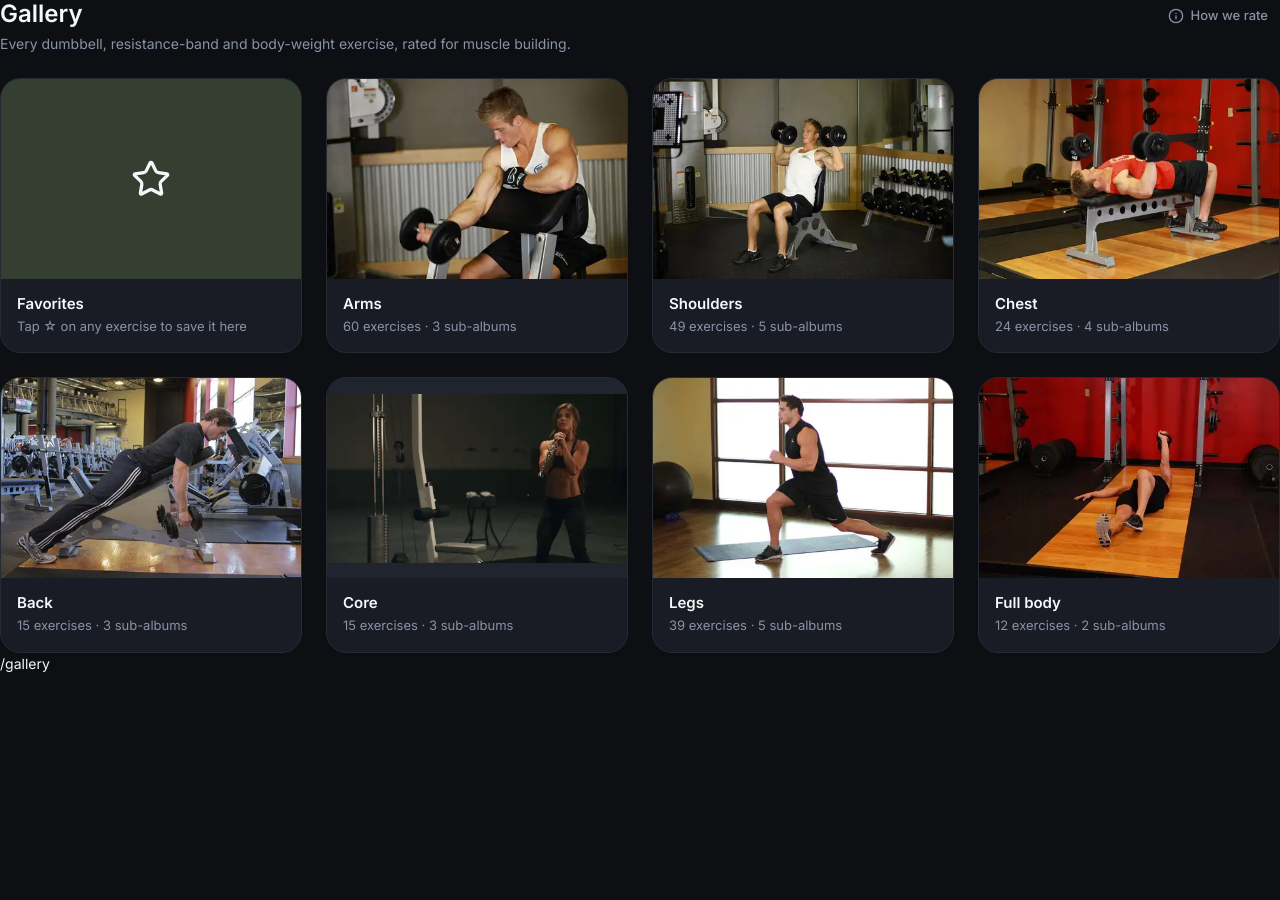
⌘K palette gallery entries › offers Open gallery, Favorites and one entry per album, and navigates
Type keys "{Control>}k{/Control}"
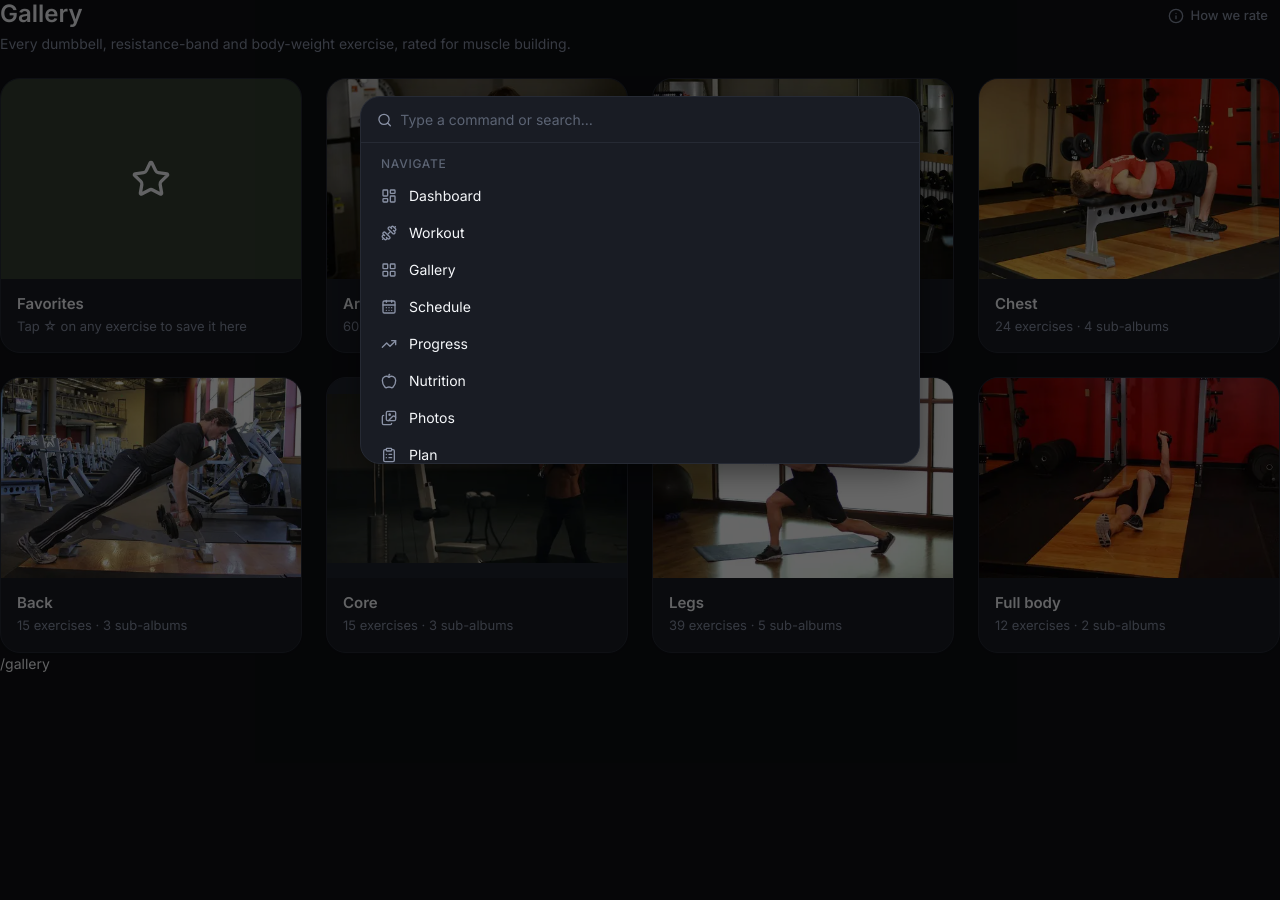
Filtering leaves only matching rows (no stale ones from the unfiltered list).
In the field: (652, 120) [400, 109, 903, 130], type "album"
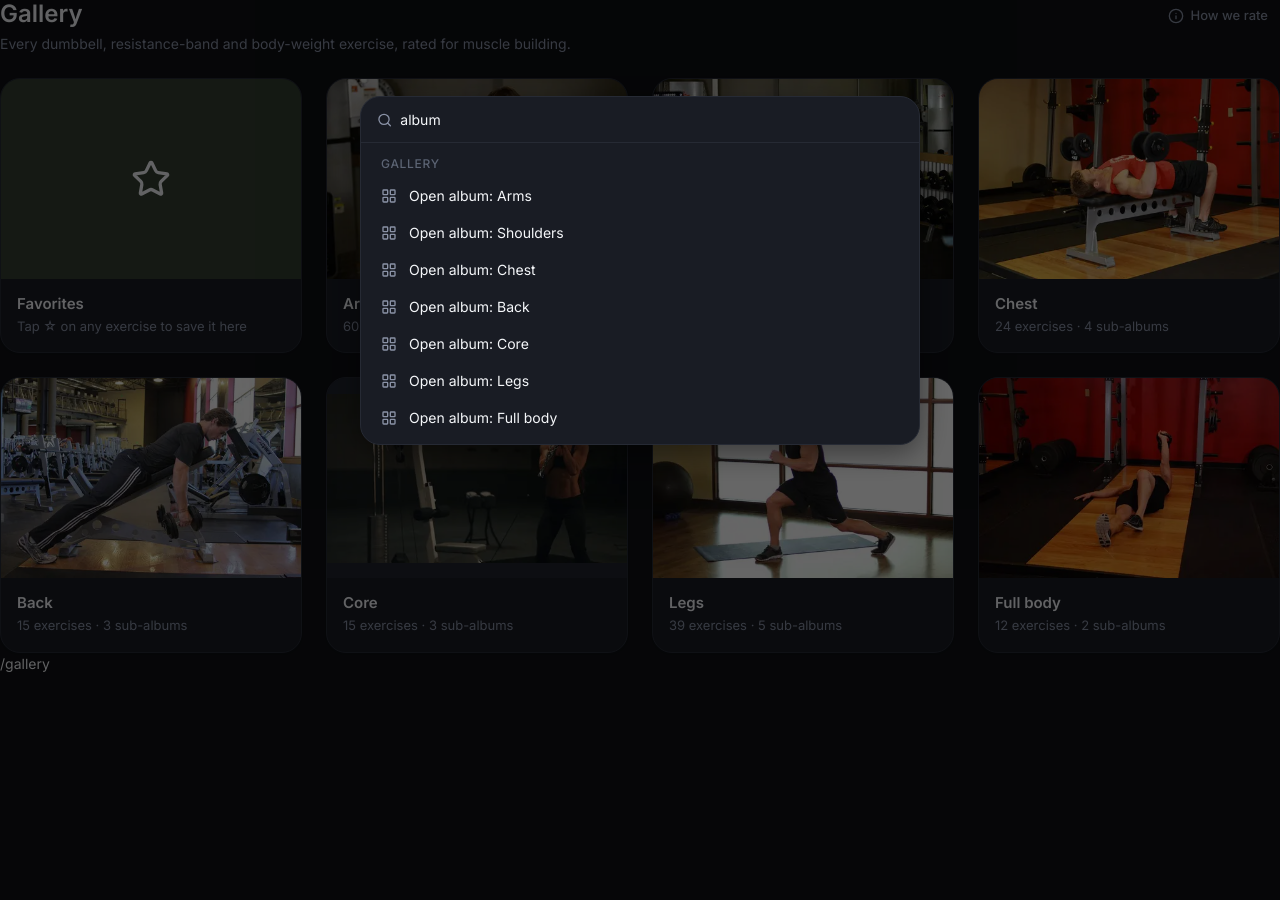
Expected: the number of options is 7
In the field: (652, 120) [400, 109, 903, 130], type ": leg"
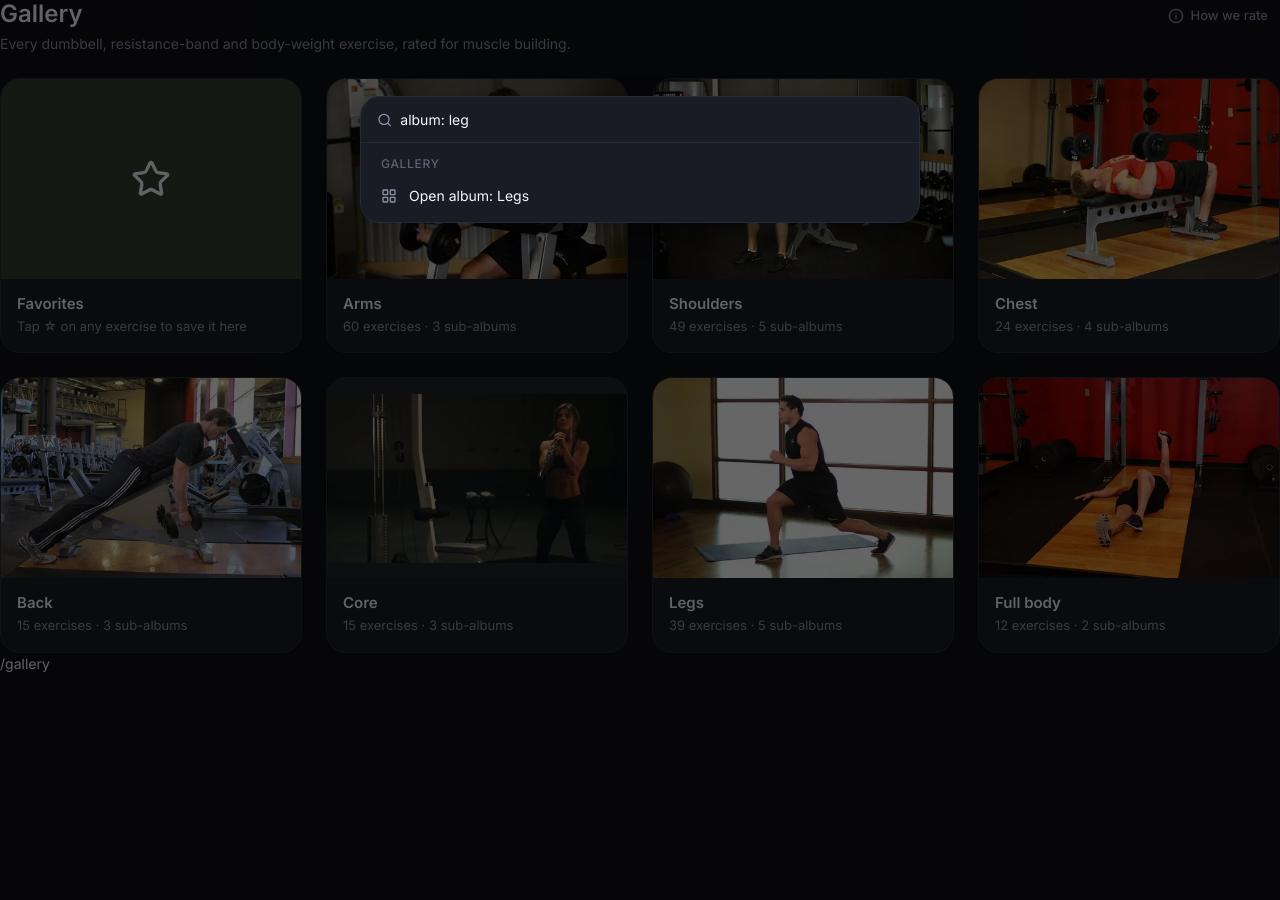
Expected: the number of options is 1
Click the button "Open album: Legs": (469, 196) [369, 177, 911, 214]
(page scrolled)
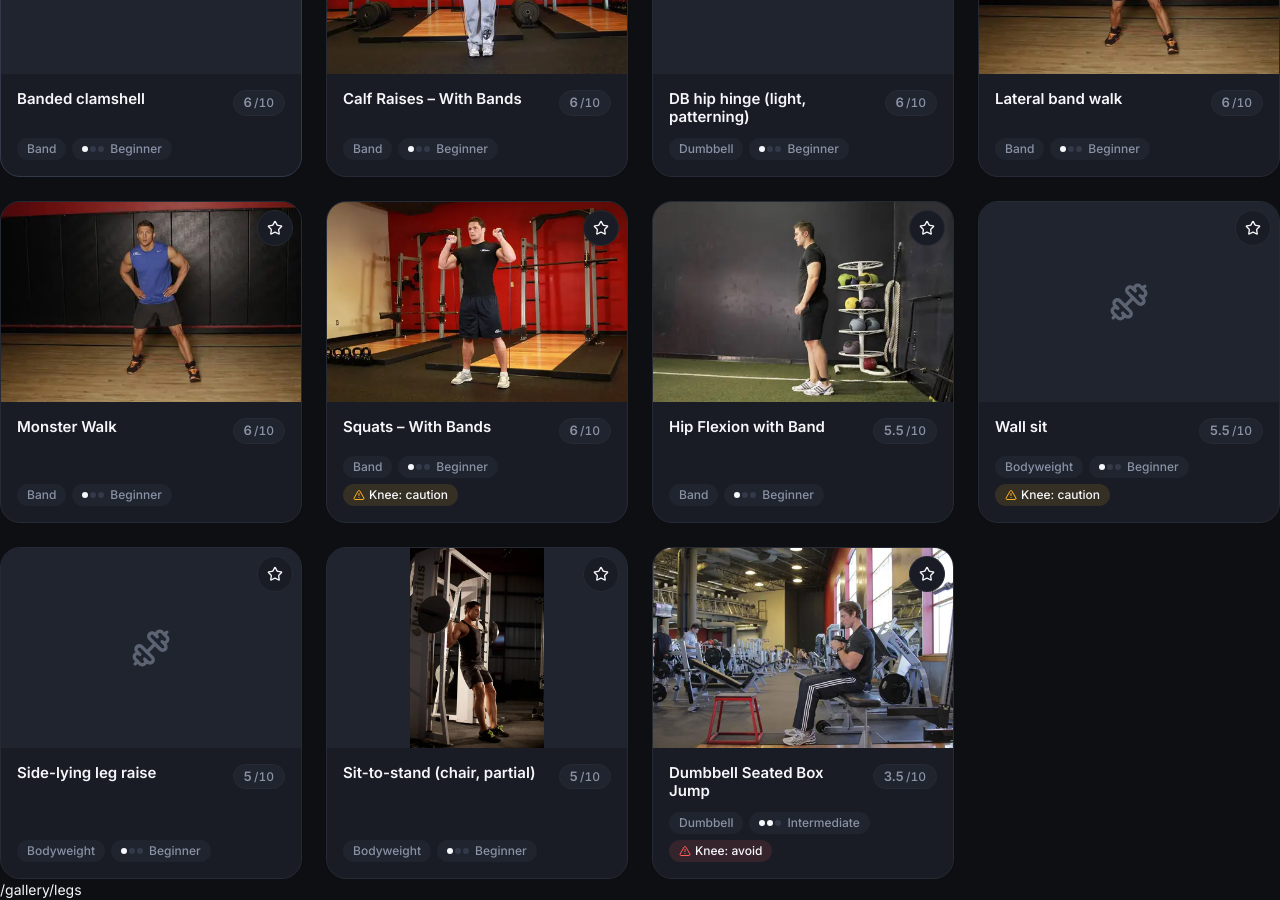
Expected: the text with test id "location" reads "/gallery/legs", [0, 881, 82, 898]
